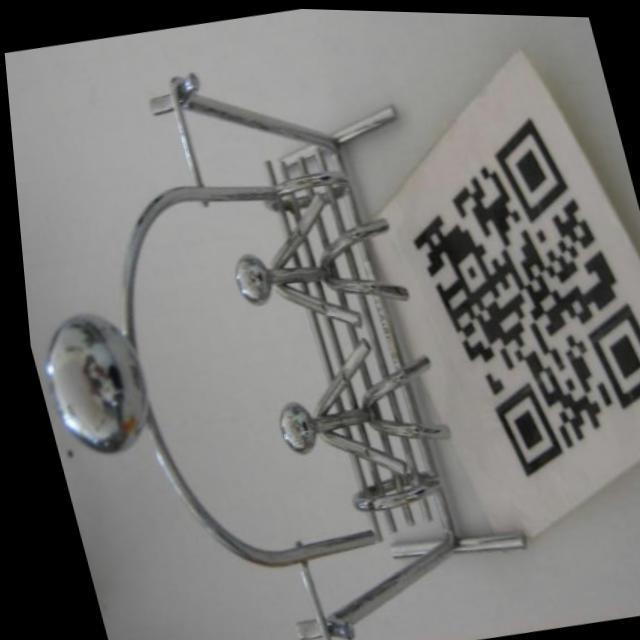qrcode: (381, 100, 640, 485)
